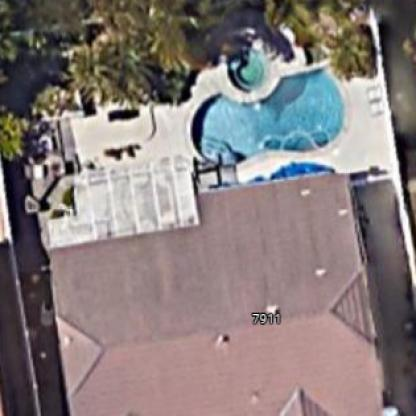pool: (182, 62, 350, 172)
